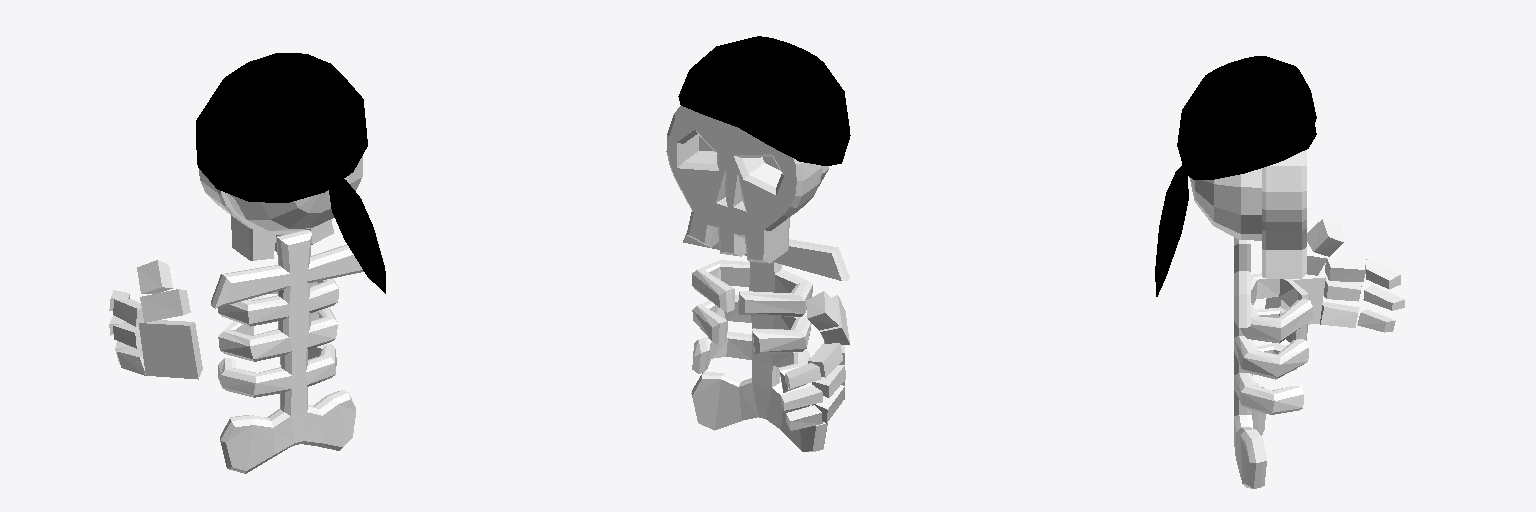
File: pirate_body_boss.obj
The picture shows the model from 3 angles: view 1: azimuth 30°, elevation 25°; view 2: azimuth 150°, elevation 25°; view 3: azimuth 270°, elevation 25°; orthographic projection.
Parts seen in each view (by area): view 1: Line02, Sphere02, Box02, Sphere03, Sphere01, Line01; view 2: Line02, Line01, Sphere02, Box02; view 3: Sphere02, Line02, Box02, Line01, Sphere01, Sphere03.
Boxes of the visible parts, x1=… form: Line02: x1=211, y1=230, x2=363, y2=473; Sphere02: x1=196, y1=53, x2=367, y2=202; Box02: x1=109, y1=260, x2=202, y2=379; Sphere03: x1=329, y1=177, x2=385, y2=293; Sphere01: x1=225, y1=156, x2=362, y2=230; Line01: x1=199, y1=169, x2=333, y2=260; Line02: x1=683, y1=233, x2=849, y2=451; Line01: x1=666, y1=106, x2=821, y2=263; Sphere02: x1=678, y1=36, x2=850, y2=165; Box02: x1=781, y1=291, x2=849, y2=430; Sphere02: x1=1177, y1=56, x2=1316, y2=179; Line02: x1=1234, y1=237, x2=1312, y2=488; Box02: x1=1265, y1=219, x2=1404, y2=332; Line01: x1=1262, y1=150, x2=1306, y2=278; Sphere01: x1=1189, y1=168, x2=1261, y2=240; Sphere03: x1=1155, y1=164, x2=1188, y2=296.
Size of the model in its own units: 11.09 by 20.73 by 11.79.